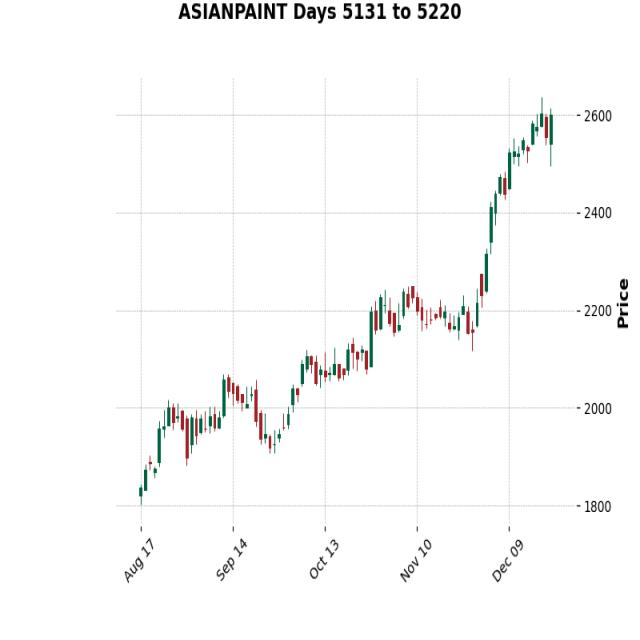Triple Bottom Reversal: (178, 322, 427, 492)
